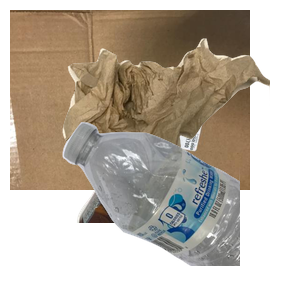cardboard: (10, 10, 250, 190)
glass: (74, 120, 244, 300)
plastic: (60, 120, 300, 300)
trash: (60, 36, 300, 198)
